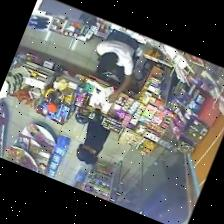person: (97, 32, 138, 101), (77, 119, 109, 164)
